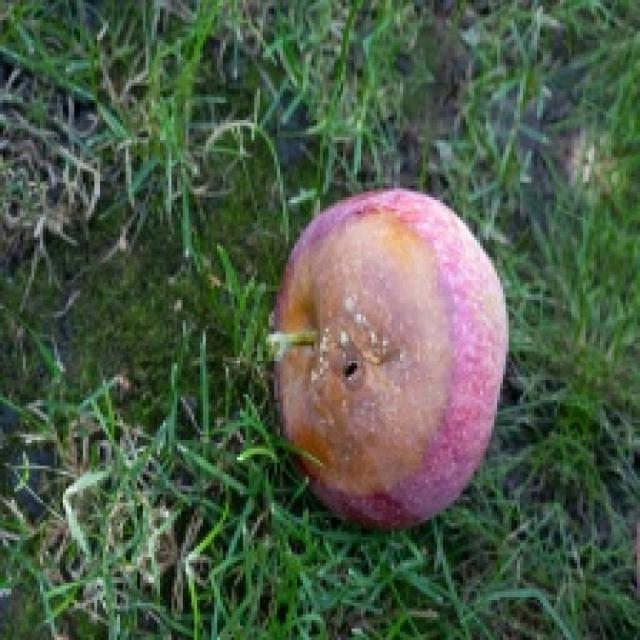rotten_apple: (285, 192, 504, 523)
